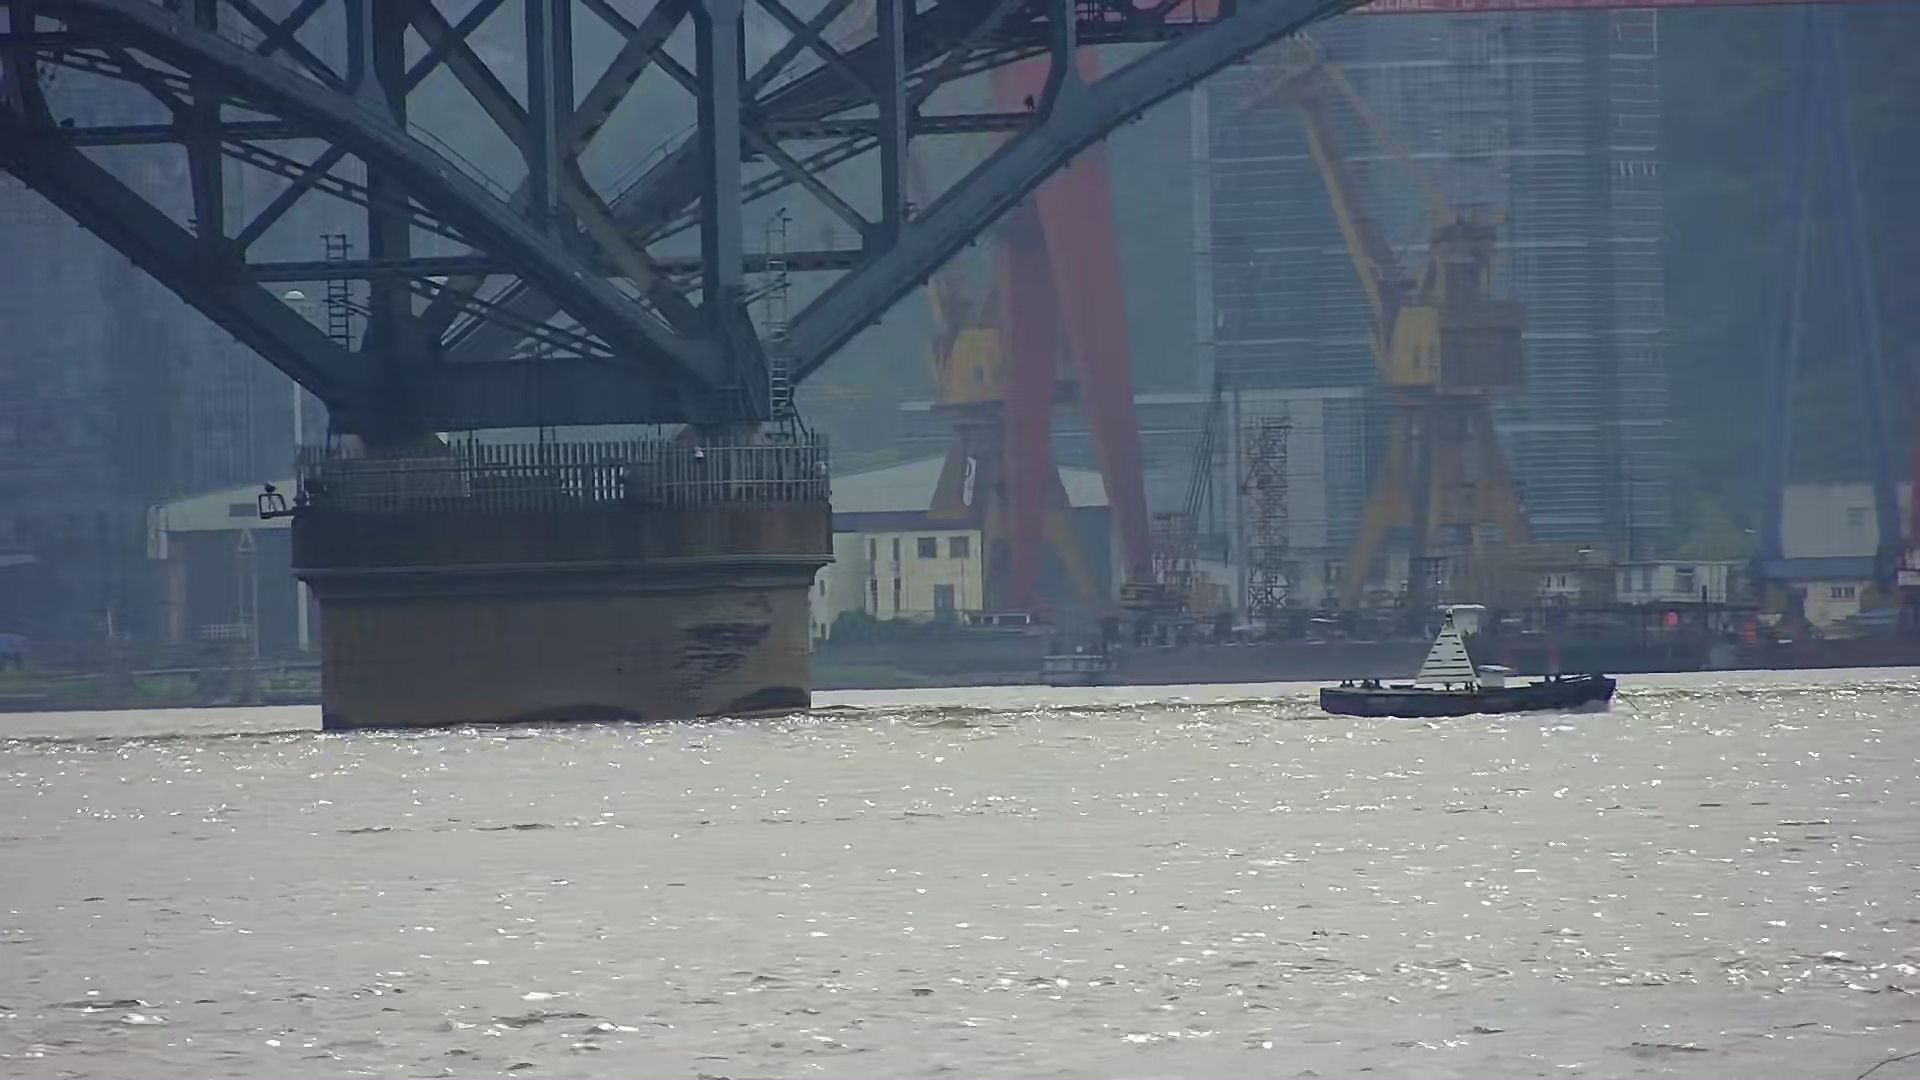boat: (1321, 611, 1615, 717)
bridge: (1, 3, 1360, 731)
harbor: (878, 510, 1787, 691)
